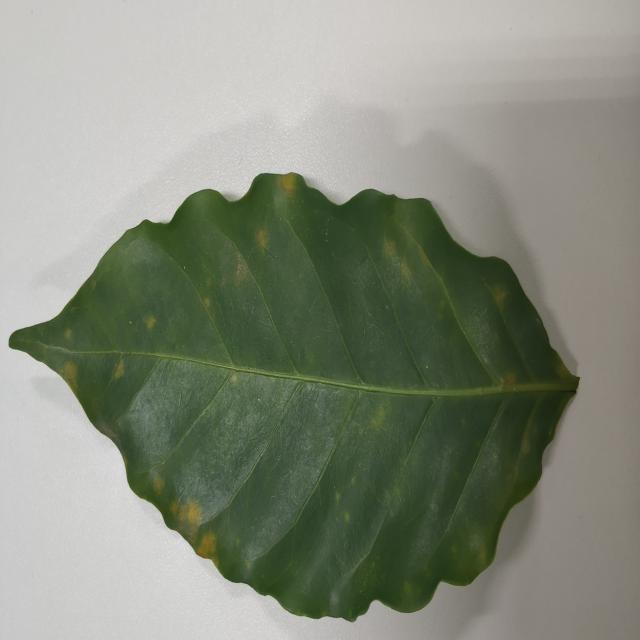Enfermedad-Roya: (8, 173, 580, 624)
